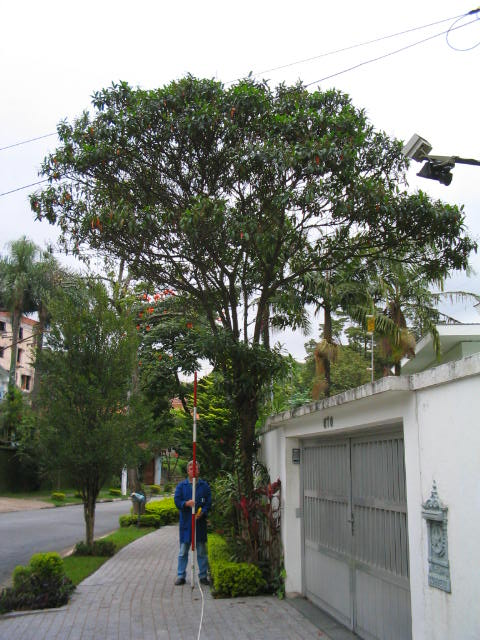crown: (34, 74, 475, 345)
stem: (223, 395, 278, 585)
stick: (177, 372, 211, 585)
tree: (31, 72, 478, 587), (18, 277, 174, 552)
